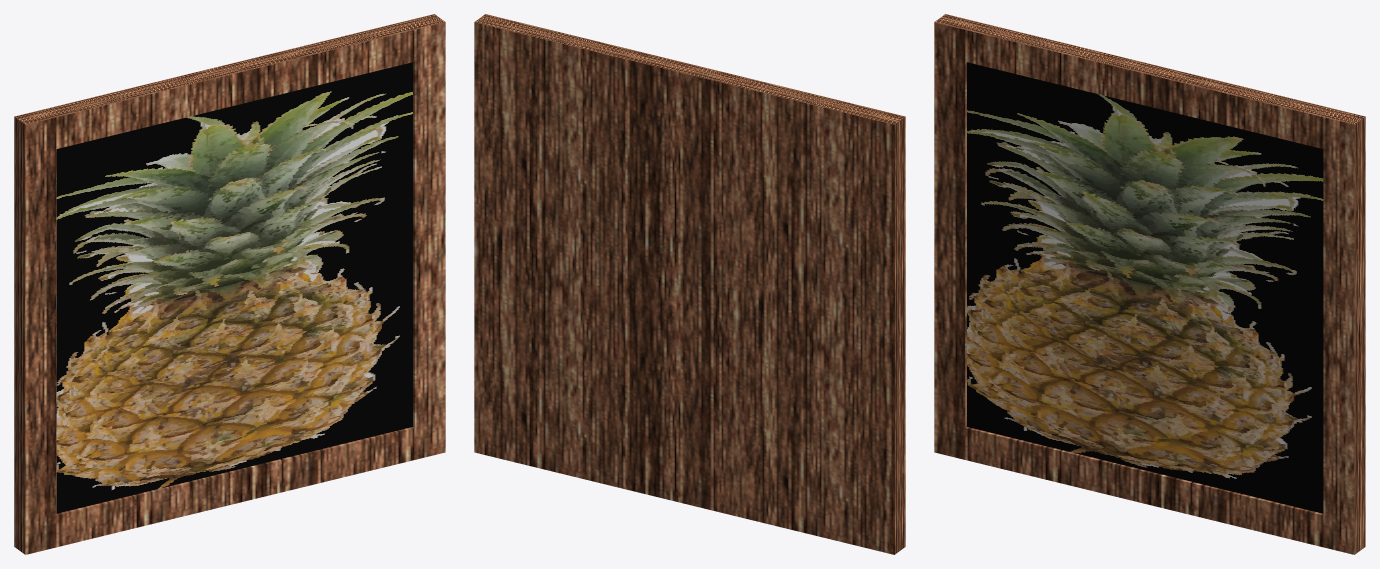
The model's file is Ananas photo frame (made by me).glb.
The picture shows the model from 3 angles, left to right: view 1: azimuth 30°, elevation 25°; view 2: azimuth 150°, elevation 25°; view 3: azimuth 330°, elevation 25°; orthographic projection.
Parts seen in each view (by area): view 1: Cube.001, Cube; view 2: Cube; view 3: Cube.001, Cube.
Part boxes in pixels (x1,y1,x2,y2): Cube.001: (56, 62, 412, 513); Cube: (14, 14, 445, 554); Cube: (474, 14, 905, 554); Cube.001: (967, 62, 1323, 513); Cube: (934, 14, 1365, 554).
Bounding box in the file's own units: 0.9781 × 0.9565 × 0.0455.
Materials: 2 (2 with a texture image).
